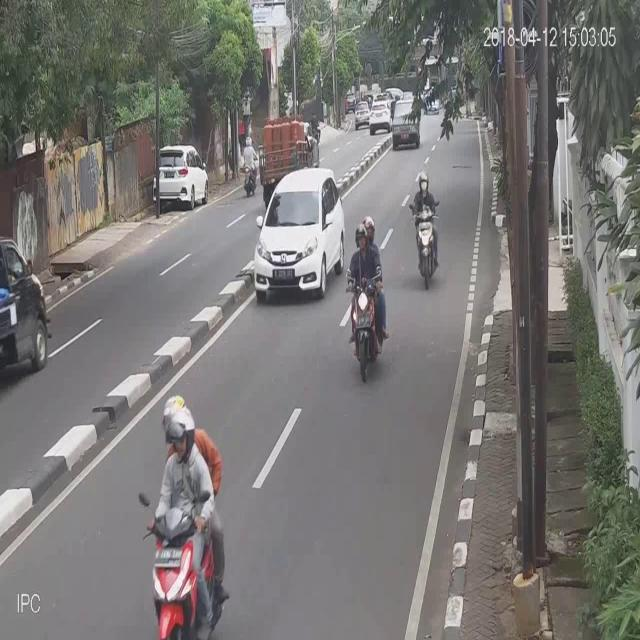bus: (149, 395, 229, 639), (348, 218, 390, 385), (406, 162, 444, 290), (240, 132, 258, 198)
motorcycle: (253, 167, 345, 300), (153, 140, 211, 213), (393, 98, 421, 148), (369, 100, 391, 135), (354, 99, 368, 129)
